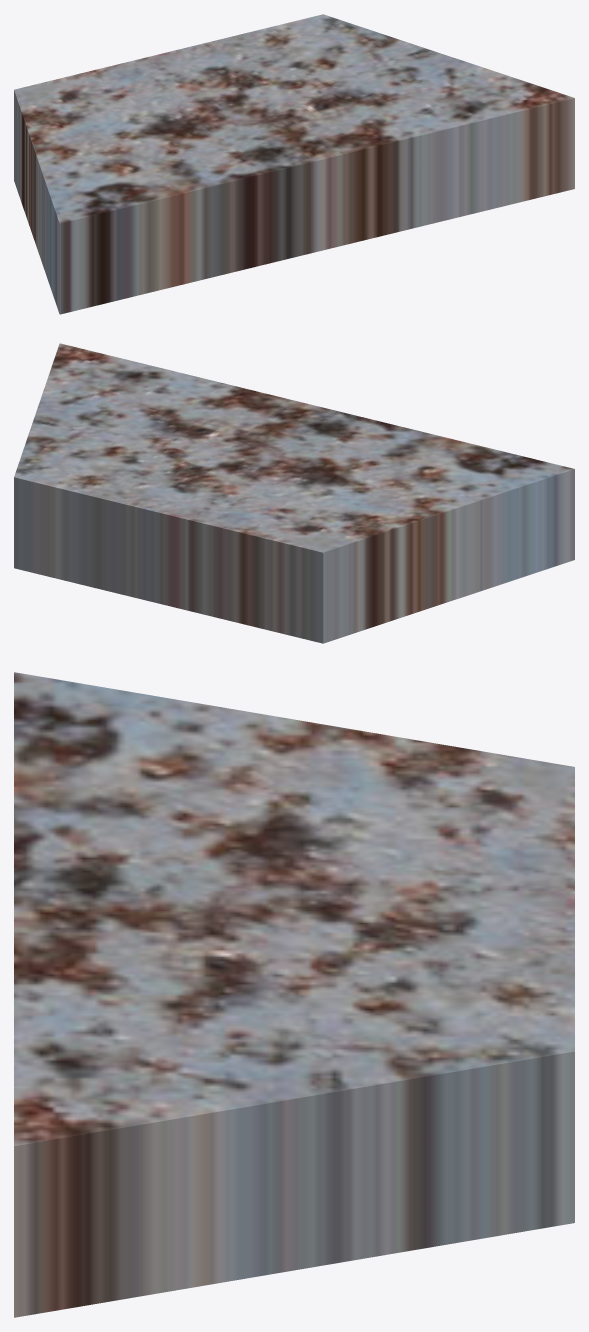
File: Innerplane.FBX
3 views of the same model, one above another, from view 1: azimuth 30°, elevation 25°; view 2: azimuth 150°, elevation 25°; view 3: azimuth 270°, elevation 25° (orthographic). The views are drawn at different scales.
Visible parts, largest first — view 1: PlaneTrapezoidInnerCollider; view 2: PlaneTrapezoidInnerCollider; view 3: PlaneTrapezoidInnerCollider.
Part boxes in pixels (<box>): PlaneTrapezoidInnerCollider: <box>14,14,574,314</box>; PlaneTrapezoidInnerCollider: <box>14,343,574,643</box>; PlaneTrapezoidInnerCollider: <box>14,672,574,1317</box>.
Size of the model in its own units: 59.28 by 10 by 29.64.
1 material, 1 textured.
